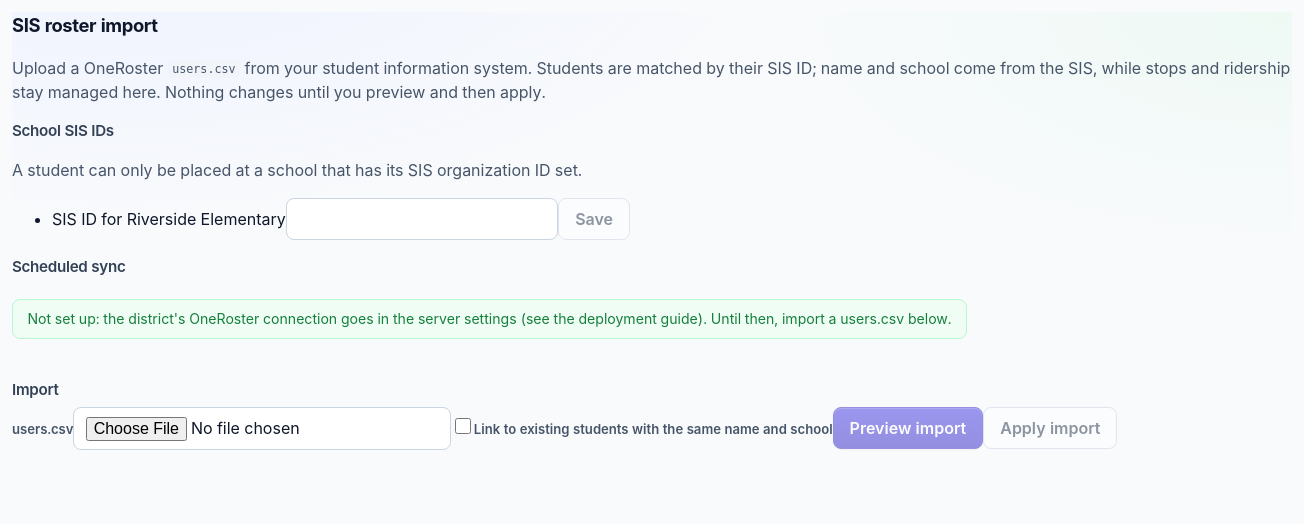
Test: SisImportSection › shows a conflict when the SIS ID is already taken
This screenshot has width=1304, height=524.
In the field labelled "SIS ID for Riverside Elementary": (422, 219) [286, 198, 558, 240], type "org-a"
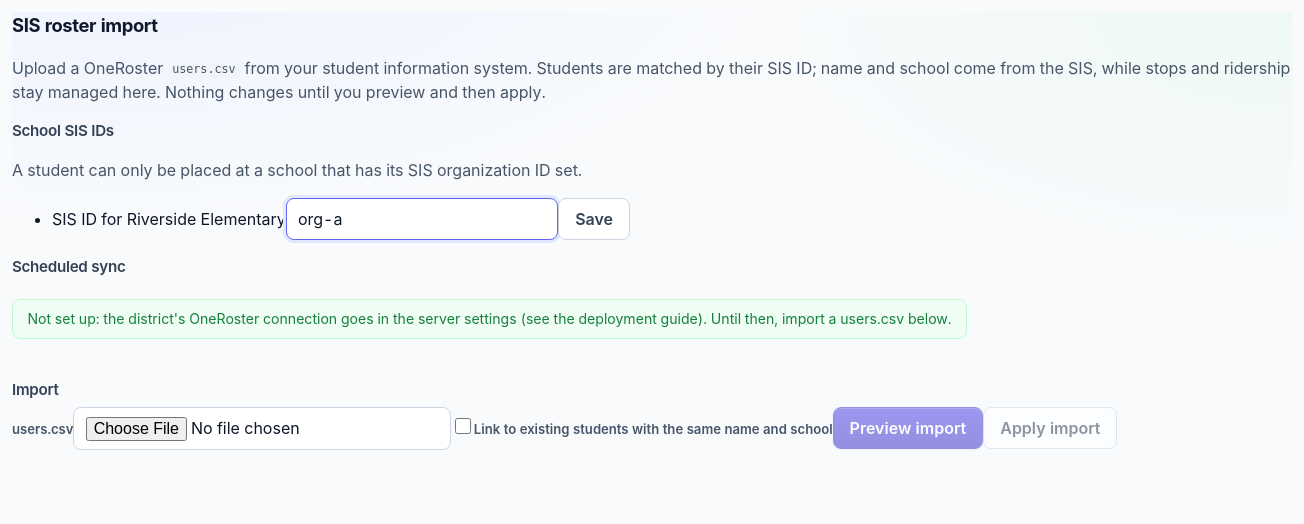
Click the button with aria-label "Save SIS ID for Riverside Elementary": (594, 219) [558, 198, 630, 240]
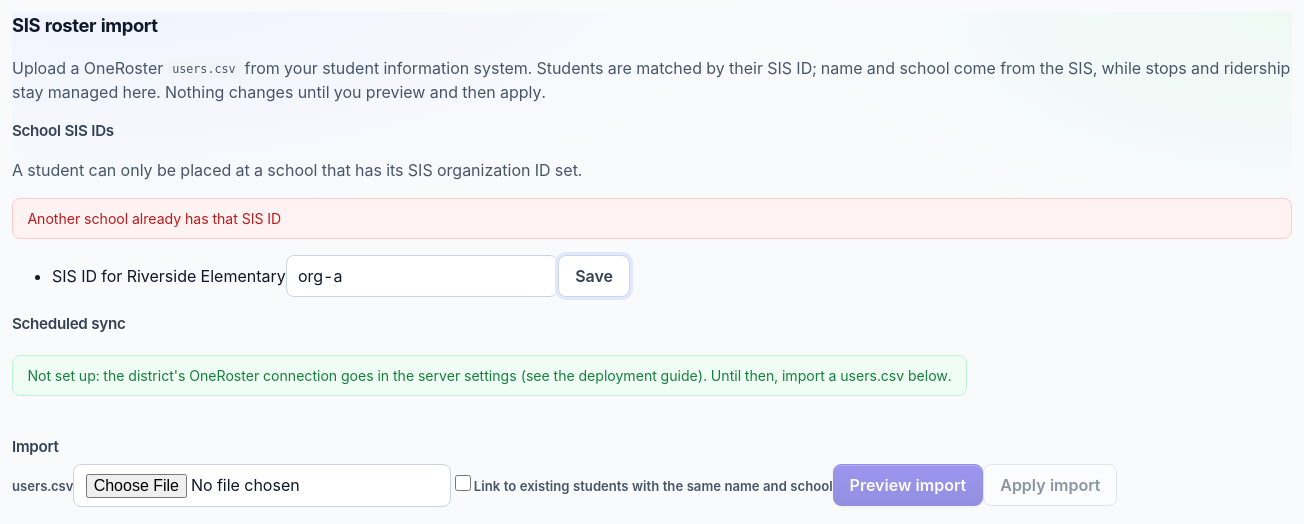
Expected: the message shows "already has that SIS ID", [27, 210, 281, 227]
